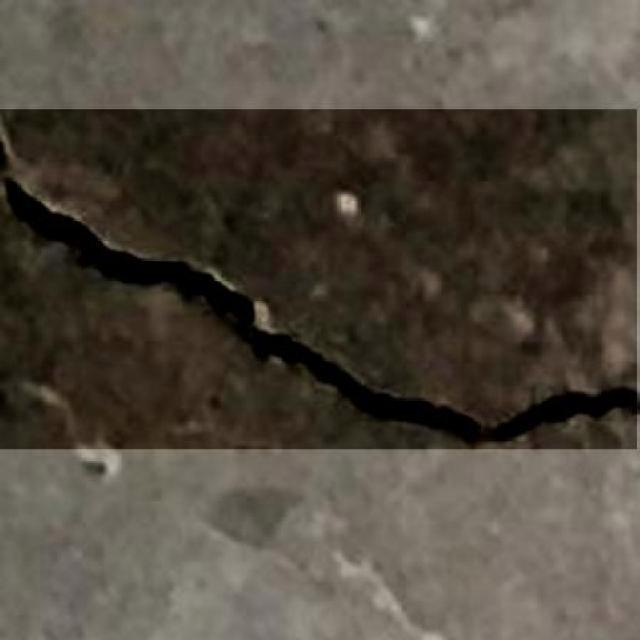SurfaceCrack: (2, 122, 640, 446)
